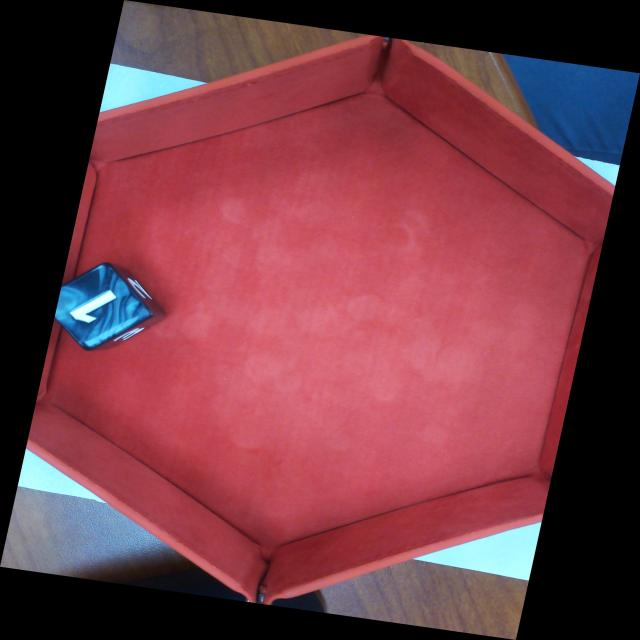dice: (53, 263, 153, 347)
